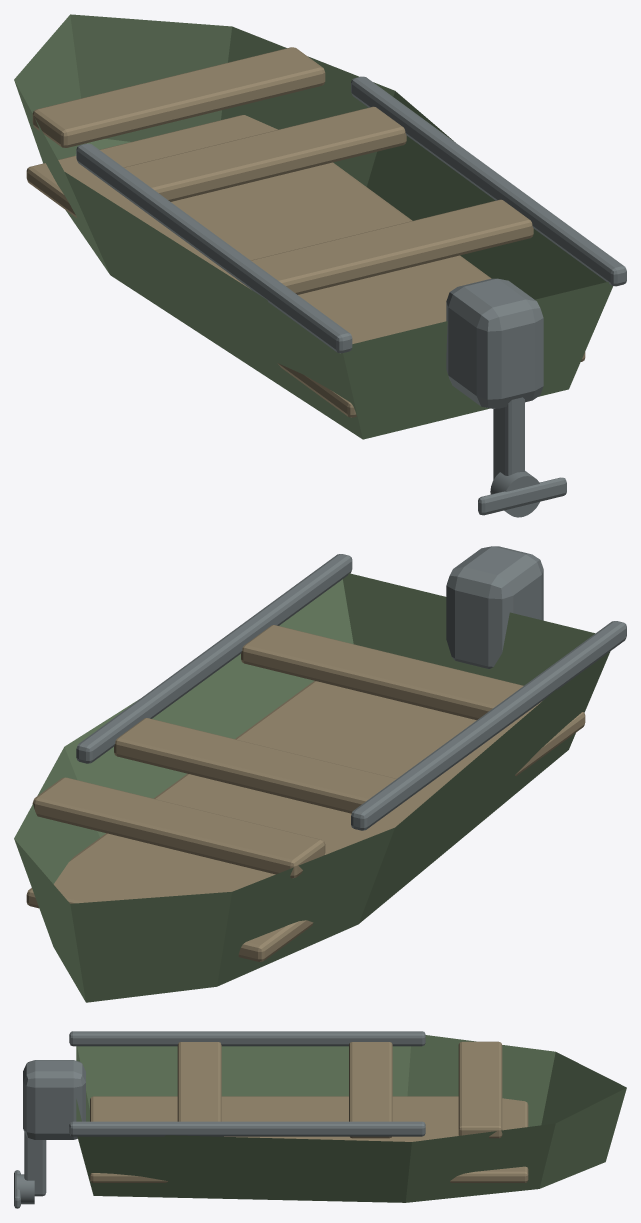
File: SM_RiverBoat.glb
The picture shows the model from 3 angles, top to bottom: view 1: azimuth 30°, elevation 25°; view 2: azimuth 150°, elevation 25°; view 3: azimuth 270°, elevation 25°; orthographic projection. The views are drawn at different scales.
Visible parts, largest first — view 1: SM_RiverBoat; view 2: SM_RiverBoat; view 3: SM_RiverBoat.
Part boxes in pixels (box(x1,y1,x2,y2)): SM_RiverBoat: box(14, 14, 626, 517); SM_RiverBoat: box(14, 546, 626, 1002); SM_RiverBoat: box(14, 1031, 626, 1208).
Size of the model in its own units: 1.88 by 1.1 by 4.48.
